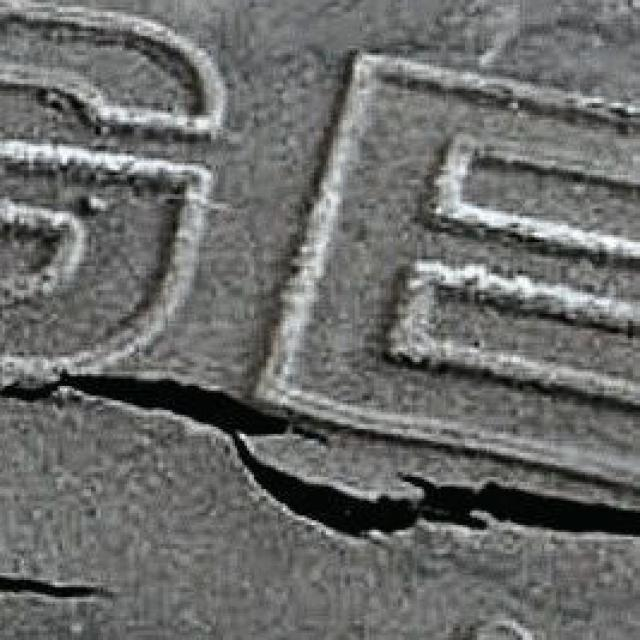Cracks: (0, 335, 638, 575)
